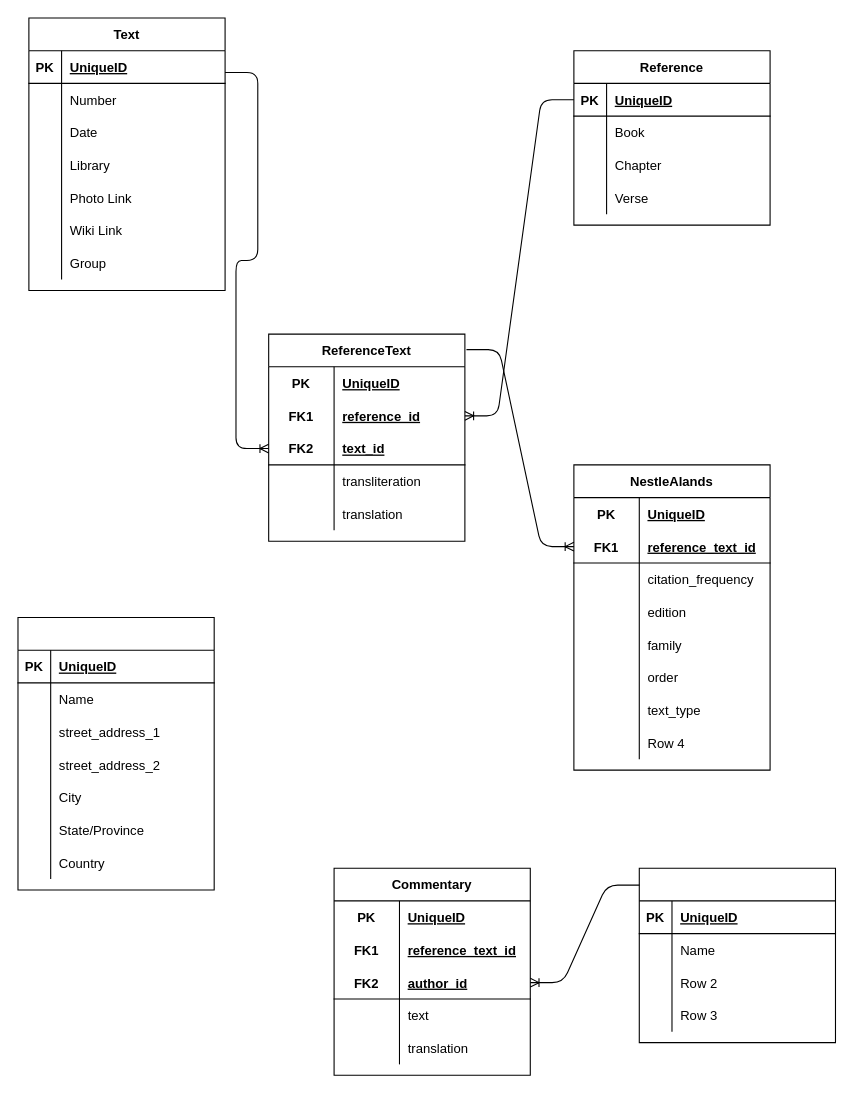
Image size: 853x1093. Some labels were removed from this diagram. The shapes that lost their labels are listed below. From the top down, each one's box as (x1, y1, x2, y2) in pixels, then its label:
(17, 616, 214, 890): Museum
(638, 867, 835, 1043): Author
